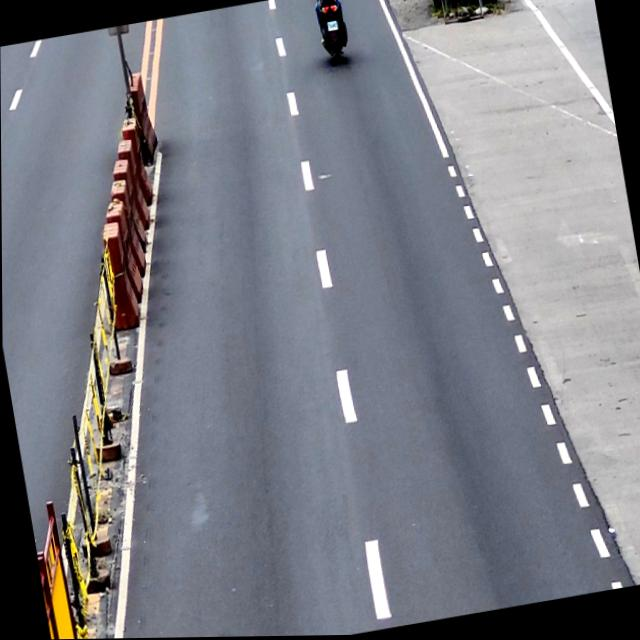License-Plate: (326, 20, 339, 34)
Motorcycle: (313, 0, 352, 69)
